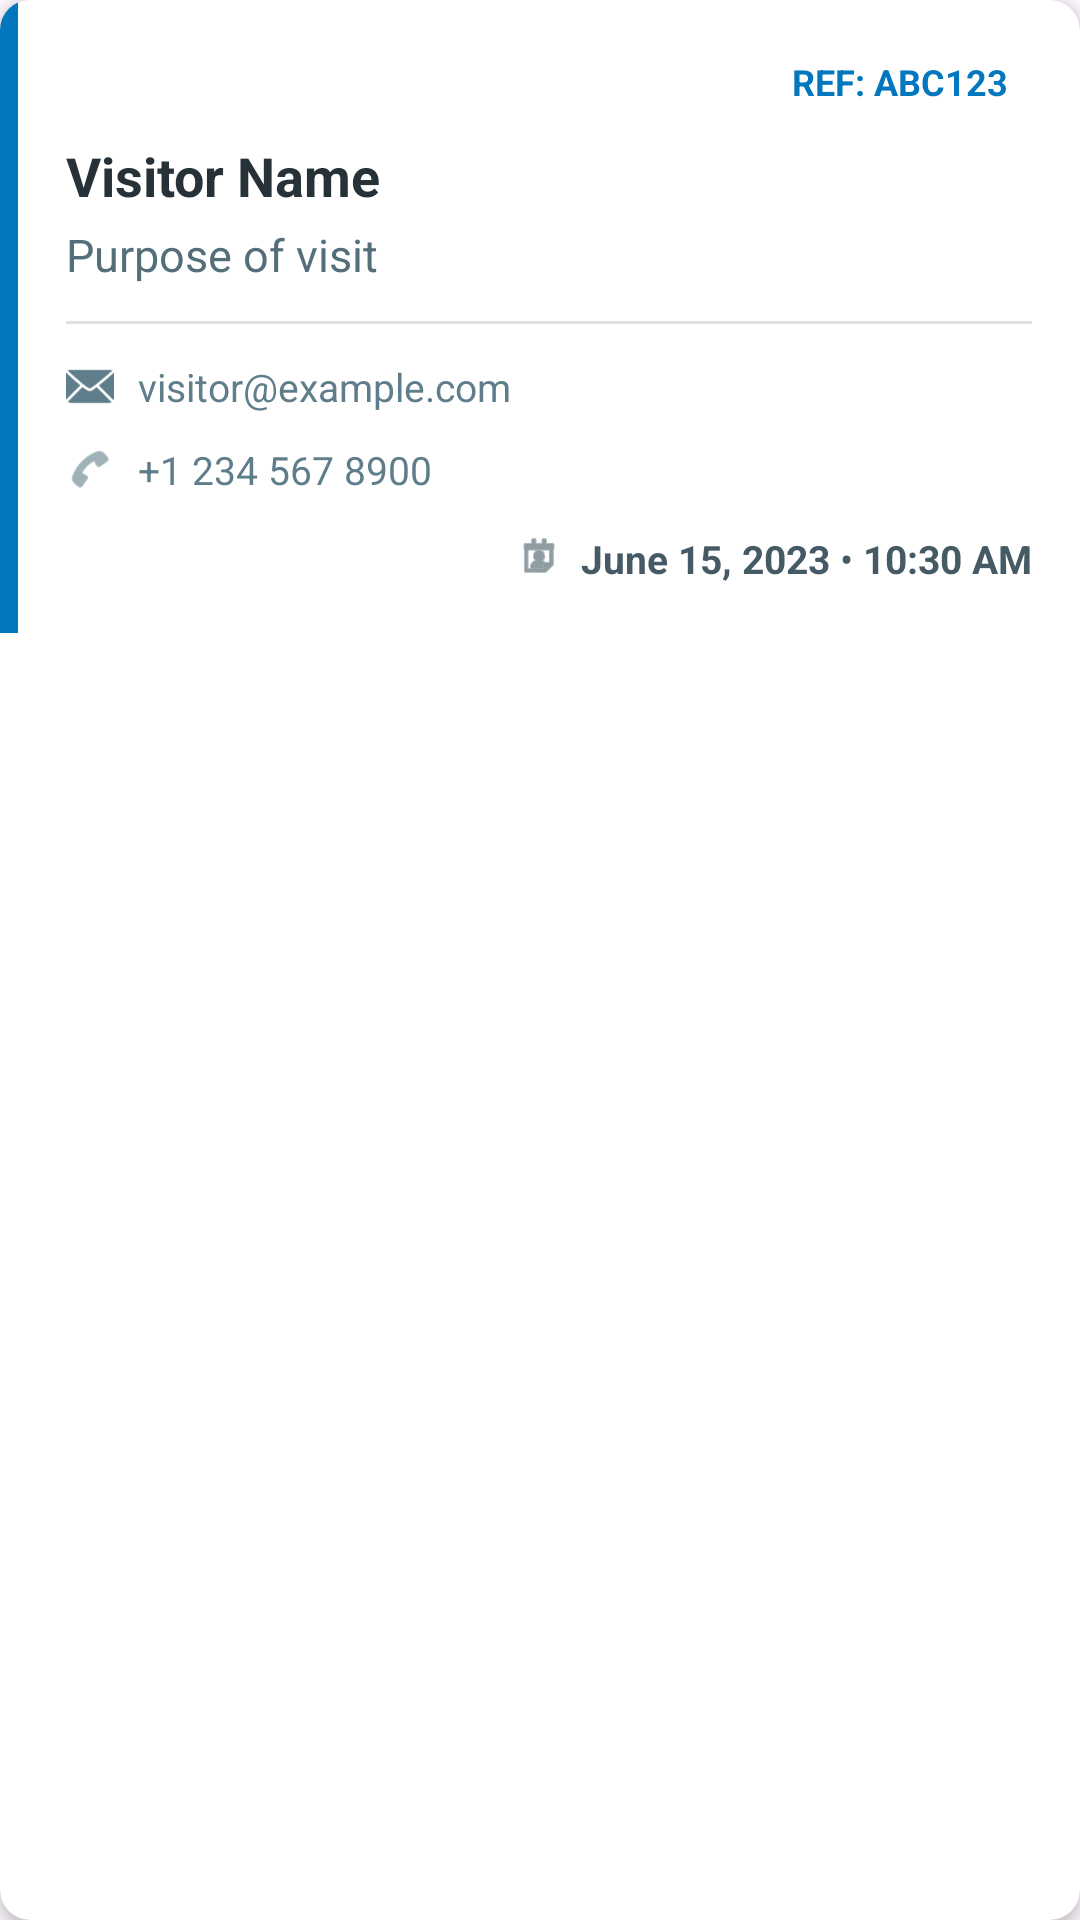

Locate icon controls on the screen. Image size 1080px x 1920px, boxes as (x1, y1, x2, y2).
calendar: (523, 538, 555, 573)
call: (72, 451, 109, 488)
email: (66, 369, 114, 403)
